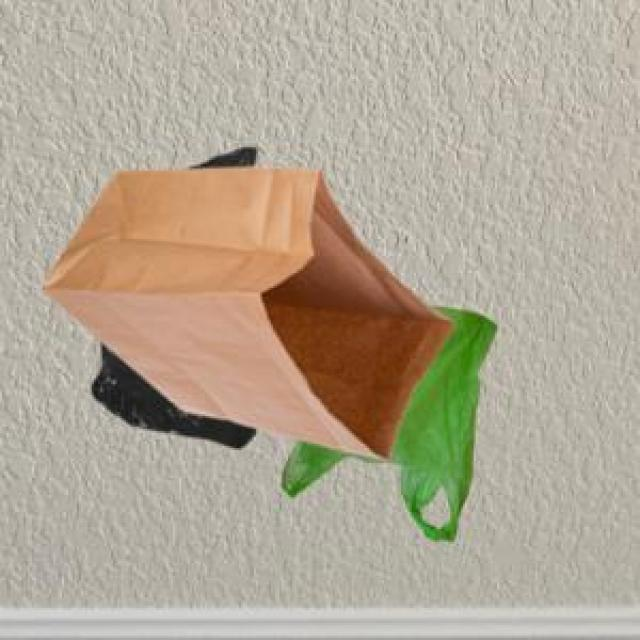paper: (38, 164, 450, 454)
